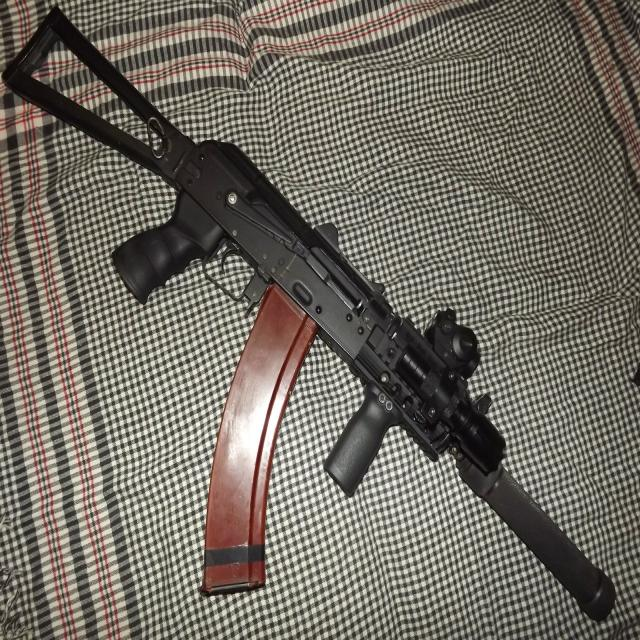firearm: (6, 8, 617, 621)
